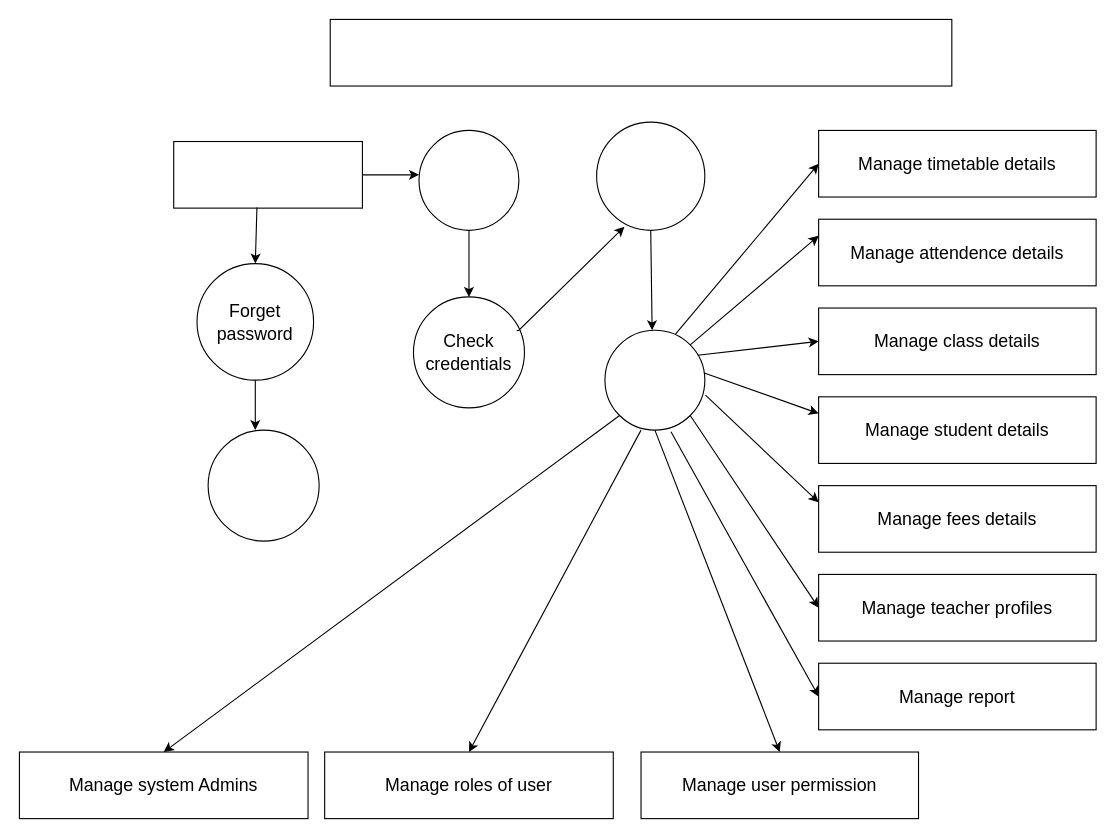
Image size: 1116x838. Some labels were removed from this diagram. Each missing label, with the box of its shape:
Admin: (173, 140, 362, 208)
Check roles for access: (596, 121, 705, 230)
Log in system: (418, 129, 519, 230)
Manage moudules: (604, 329, 705, 430)
Send Email to user: (207, 429, 319, 541)
Student information system: (329, 18, 952, 86)
